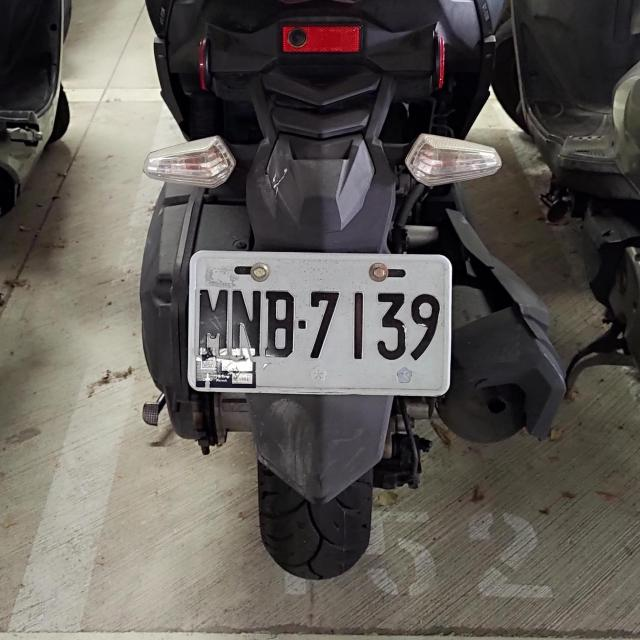W: (184, 250, 453, 392)
